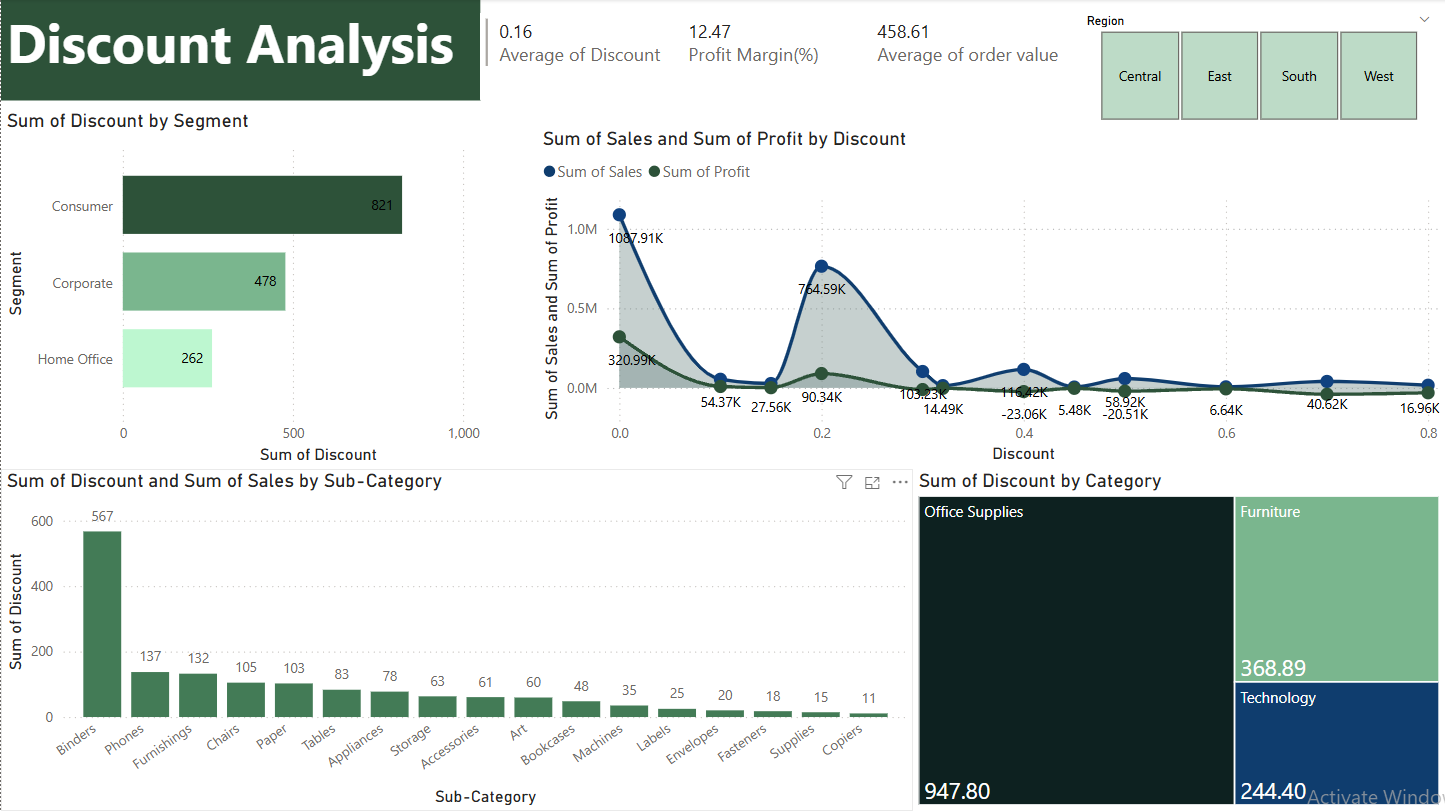

Layout of this report page (visuals, bound fields, positions):
{"tool":"powerbi","page":{"name":"Discount Analysis","canvas":[1280,720],"ordinal":2},"visuals":[{"type":"textbox","box":[0,0,424.8,90],"z":0},{"type":"lineChart","fields":{"Category":["DATASuperstore1.Discount"],"Y":["Sum(DATASuperstore1.Sales)","Sum(DATASuperstore1.Profit)"]},"box":[474.9,113.9,805.1,302.9],"z":1000},{"type":"multiRowCard","fields":{"Values":["Avg(DATASuperstore1.Discount)","DATASuperstore1.Profit Margin(%)","DATASuperstore1.Average of order value"]},"box":[424.8,12.5,525,77.4],"z":3000},{"type":"treemap","fields":{"Group":["DATASuperstore1.Category"],"Values":["Sum(DATASuperstore1.Discount)"]},"box":[808.5,416.8,471.5,302.9],"z":4000},{"type":"barChart","fields":{"Category":["DATASuperstore1.Segment"],"Y":["Sum(DATASuperstore1.Discount)"]},"box":[0,97.9,474.9,318.9],"z":5000},{"type":"columnChart","fields":{"Y":["Sum(DATASuperstore1.Discount)"],"Category":["DATASuperstore1.Sub-Category"]},"box":[0,416.8,808.5,302.9],"z":6000},{"type":"slicer","fields":{"Values":["DATASuperstore1.Region"]},"box":[949.8,8,330.2,105.9],"z":7000}]}

Visuals, with their boxes in screenshot pixels (x1, y1, x2, y2), scaled from the page's 1280x720 canvas onto the 1445x811 screenshot:
textbox: [left=0, top=0, right=480, bottom=101]
lineChart - DATASuperstore1.Discount x Sum(DATASuperstore1.Sales): [left=536, top=128, right=1444, bottom=469]
multiRowCard - Avg(DATASuperstore1.Discount) x DATASuperstore1.Profit Margin(%): [left=480, top=14, right=1072, bottom=101]
treemap - DATASuperstore1.Category x Sum(DATASuperstore1.Discount): [left=913, top=469, right=1444, bottom=810]
barChart - DATASuperstore1.Segment x Sum(DATASuperstore1.Discount): [left=0, top=110, right=536, bottom=469]
columnChart - Sum(DATASuperstore1.Discount) x DATASuperstore1.Sub-Category: [left=0, top=469, right=913, bottom=810]
slicer - DATASuperstore1.Region: [left=1072, top=9, right=1444, bottom=128]
